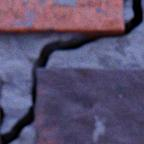brick: (35, 68, 143, 143), (0, 0, 123, 35), (0, 77, 2, 105)
crack: (0, 0, 143, 143), (0, 106, 4, 127)
